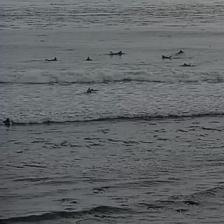surfer: (109, 50, 122, 55), (45, 57, 57, 62), (3, 118, 10, 125), (180, 62, 192, 66), (162, 54, 172, 58), (89, 88, 98, 92), (84, 57, 92, 61), (177, 50, 184, 53), (87, 88, 91, 92)
